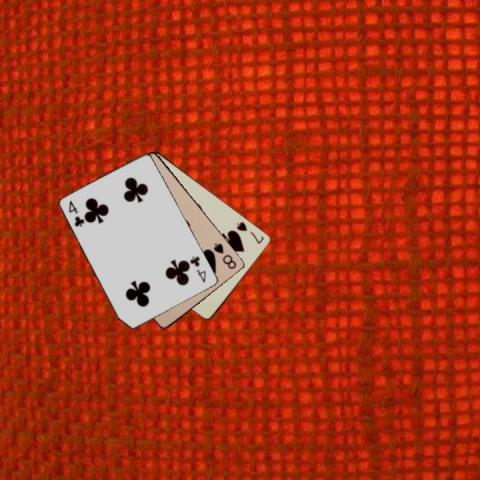4c: (66, 197, 86, 228), (188, 253, 207, 284)
7s: (234, 219, 265, 245)
8s: (211, 240, 238, 271)
